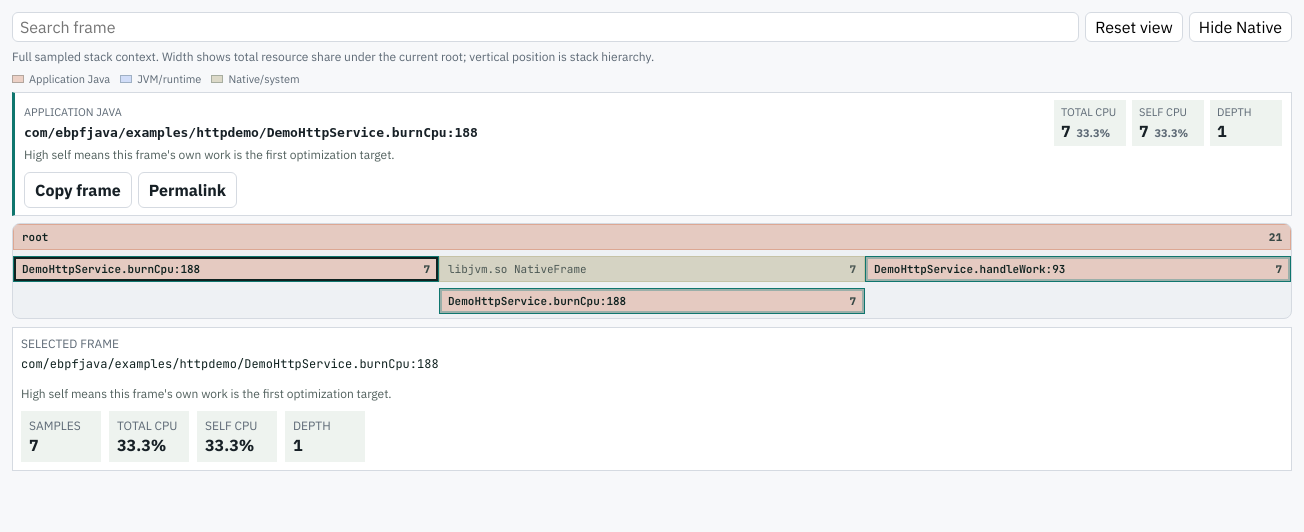
Test: highlights selected Java frames without replacing flamegraph context
Expected: the button "root 21" is shown, [13,224,1291,250]
Expected: the text "Full sampled stack context" is shown, [12,49,654,64]
Click the 1st button "DemoHttpService.burnCpu:188 7": (111, 269) [13,256,439,282]
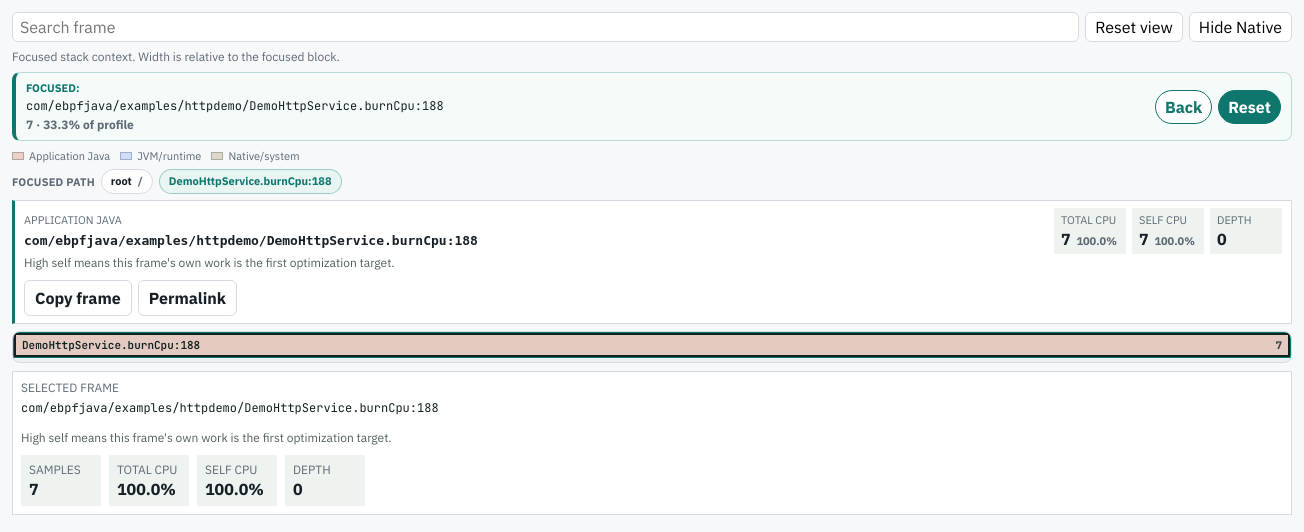
Expected: the text "7" is shown once, [29,478,39,498]
Expected: the text "Focused stack context" is shown, [12,49,340,64]
Expected: the navigation bar named "Focused flamegraph path" shows "DemoHttpService.burnCpu:188", [159,169,342,194]
